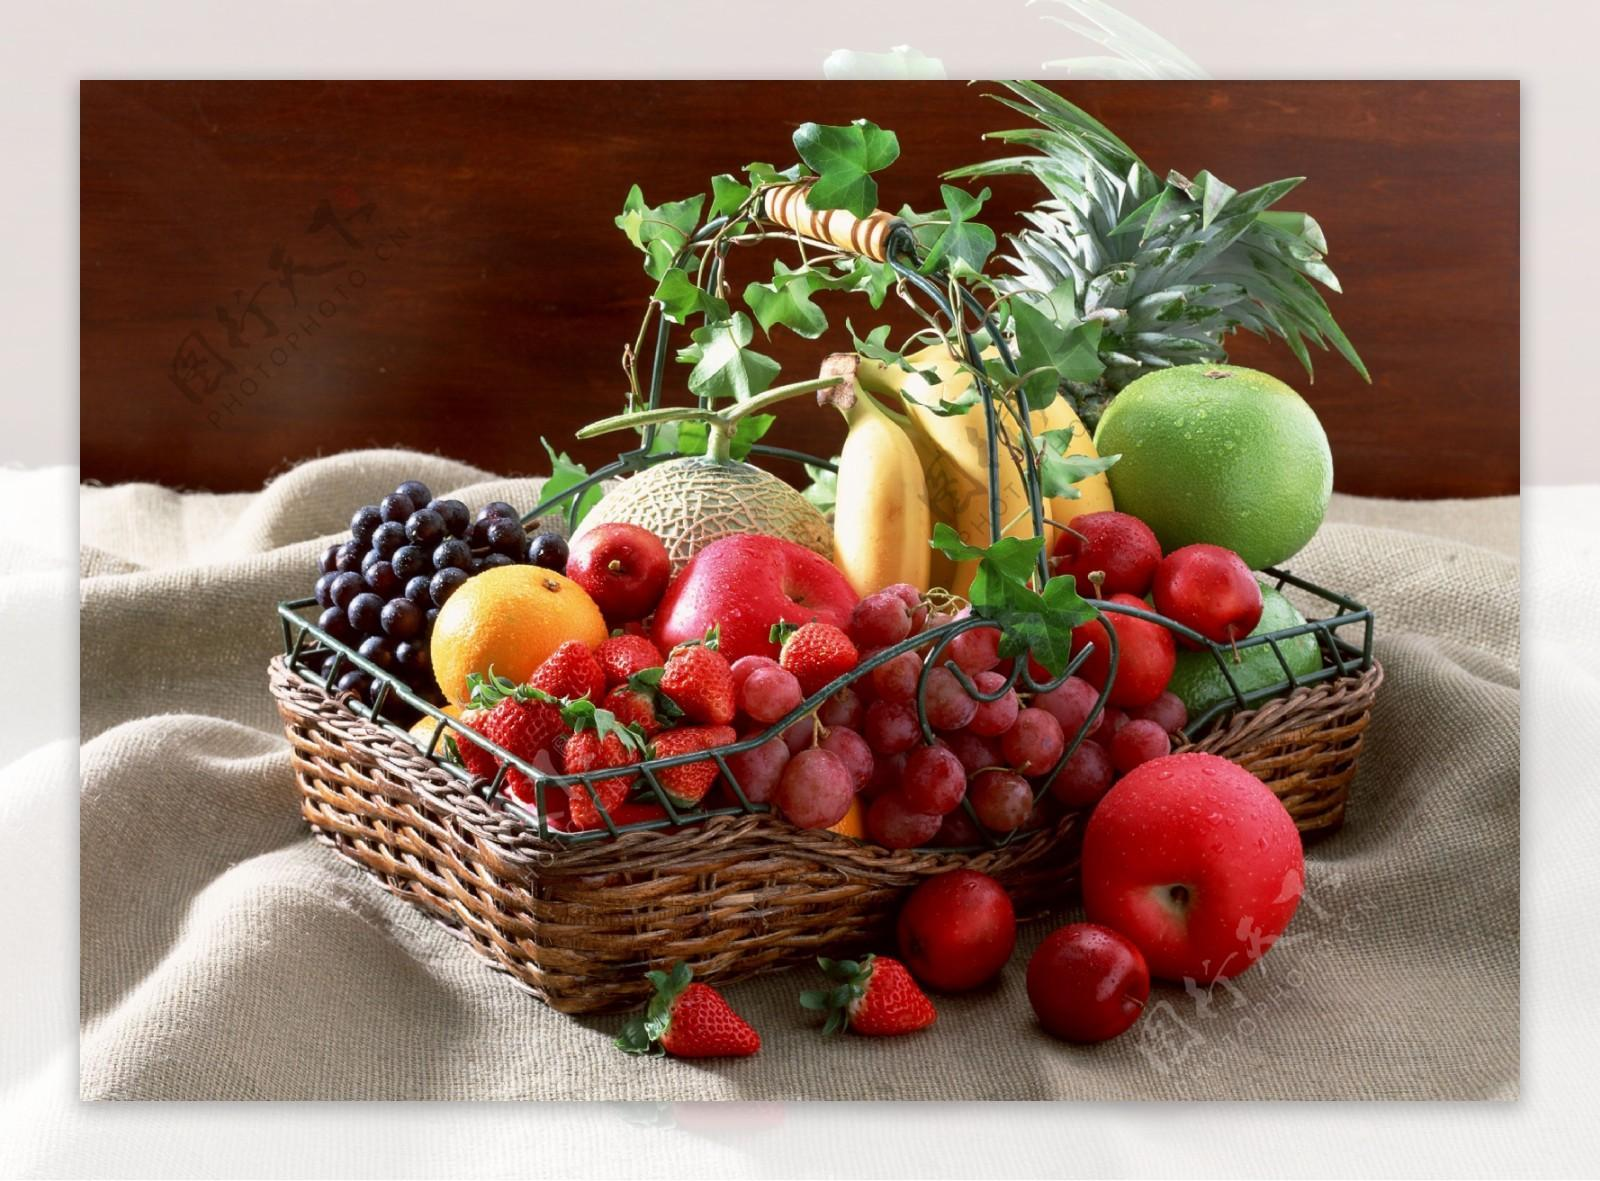apple: (1089, 360, 1330, 580), (1080, 753, 1303, 989), (658, 533, 855, 645)
